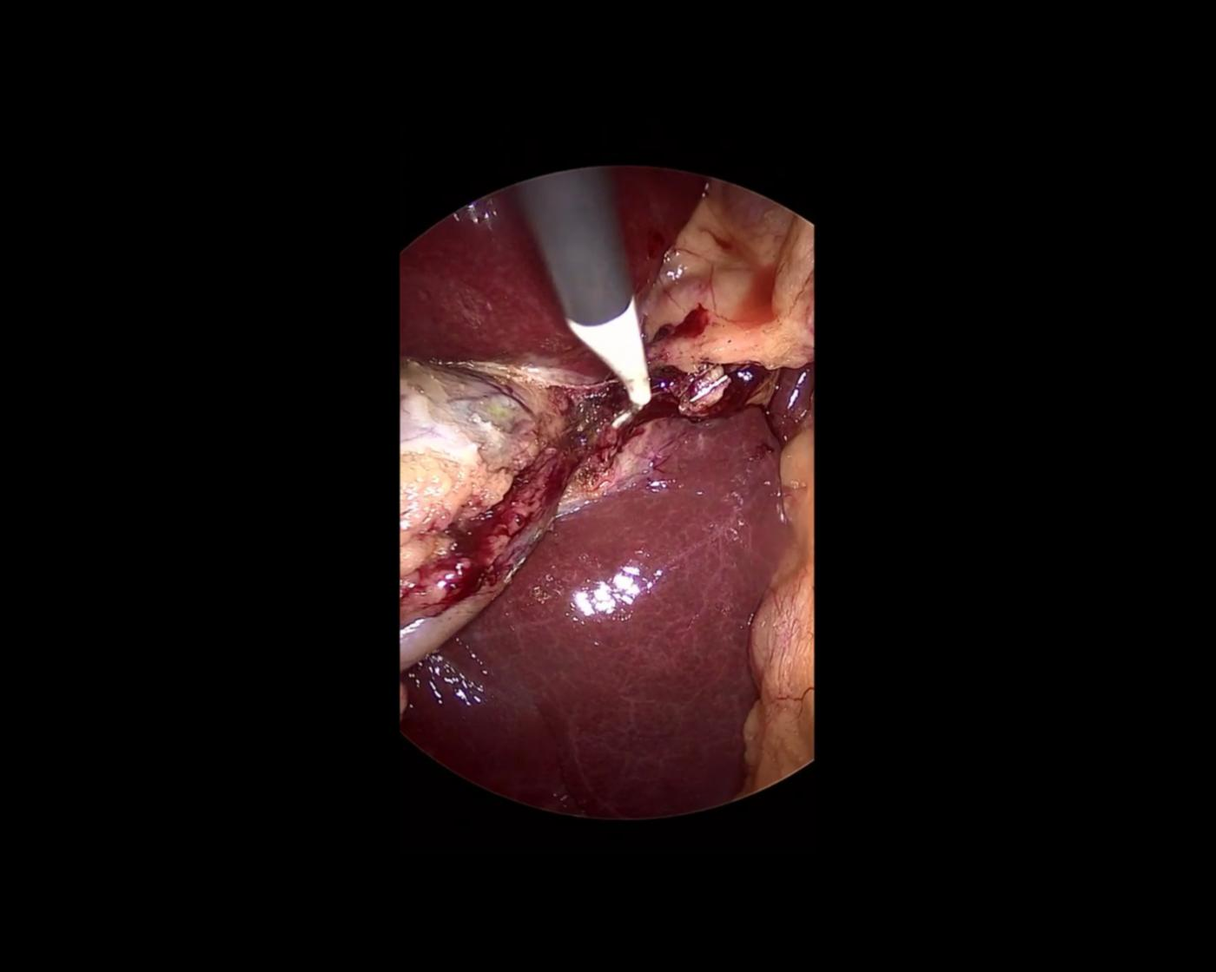Cautery: (514, 164, 657, 437)
Gallbladder: (402, 359, 579, 671)
Liver: (384, 350, 813, 842), (388, 140, 712, 393)
